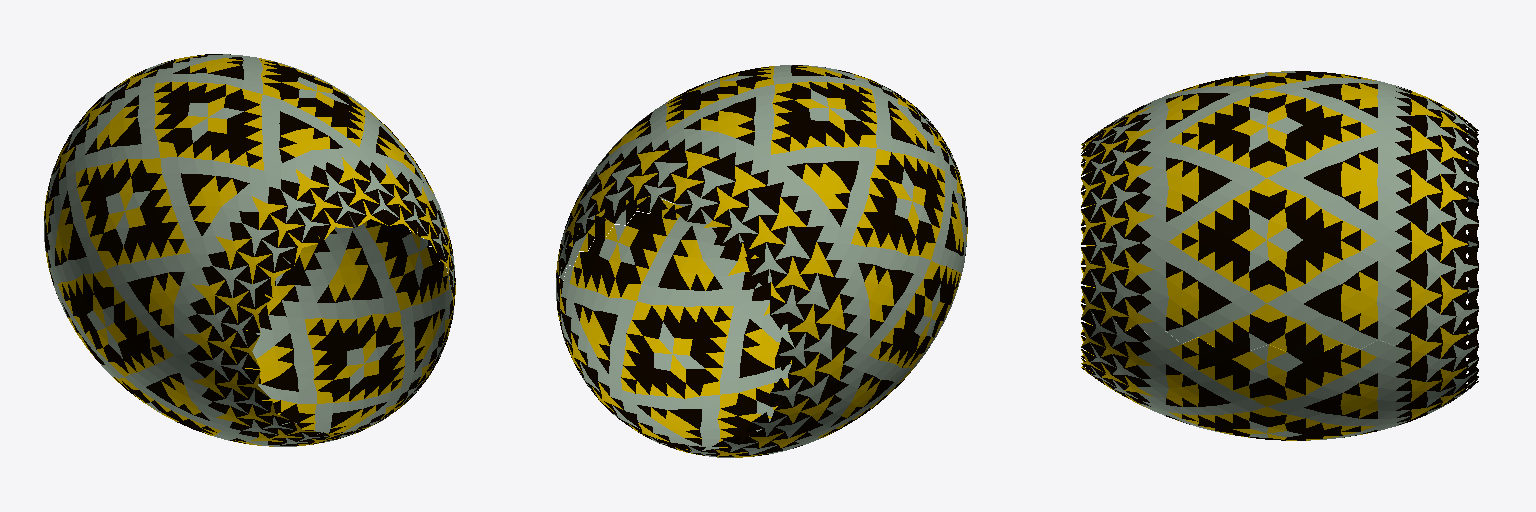
The picture shows the model from 3 angles: view 1: azimuth 30°, elevation 25°; view 2: azimuth 150°, elevation 25°; view 3: azimuth 270°, elevation 25°; orthographic projection.
Parts seen in each view (by area): view 1: BARREL; view 2: BARREL; view 3: BARREL.
Boxes of the visible parts, x1,y1,x2,y2 form: BARREL: [44, 54, 455, 446]; BARREL: [556, 65, 967, 457]; BARREL: [1081, 71, 1478, 440].
Bounding box in the file's own units: 9.17 × 9.18 × 9.9.
Materials: 1 (1 with a texture image).